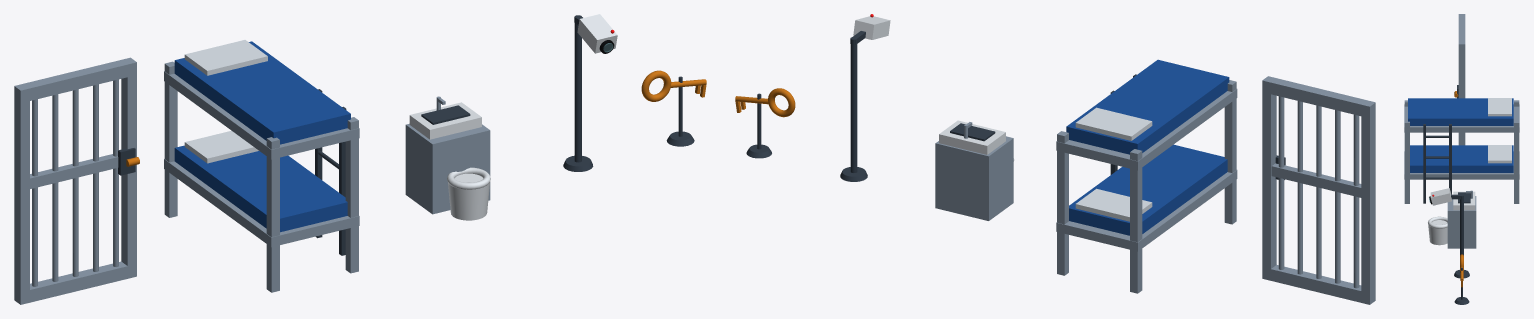
File: prison-escape-assets.obj
3 renders of one model, left to right at view 1: azimuth 30°, elevation 25°; view 2: azimuth 150°, elevation 25°; view 3: azimuth 270°, elevation 25°, orthographic. The views are drawn at different scales.
Parts seen in each view (by area): view 1: mattress_upper, mattress_lower, door_post, door_bar, bed_leg, unit_body, bed_frame_lower, bed_frame_upper, door_top, door_bottom, pillow_upper, toilet_bowl (+9 smaller); view 2: mattress_upper, mattress_lower, door_post, unit_body, door_bar, bed_leg, bed_frame_lower, bed_frame_upper, door_top, door_bottom, pillow_upper, pillow_lower (+5 smaller); view 3: mattress_upper, mattress_lower, unit_body, bed_leg, bed_frame_upper, bed_frame_lower, door_post, pillow_lower, pillow_upper, ladder_rail, toilet_bowl, cam_body (+8 smaller).
Part boxes in pixels (x1,y1,x2,y2): mattress_upper: (174,41,350,144); mattress_lower: (174,145,347,232); door_post: (14,57,136,304); door_bar: (32,79,118,286); bed_leg: (164,61,358,292); unit_body: (405,123,490,214); bed_frame_lower: (164,159,359,247); bed_frame_upper: (164,71,359,159); door_top: (14,58,136,102); door_bottom: (14,261,136,303); pillow_upper: (184,40,267,75); toilet_bowl: (448,173,490,220); mattress_upper: (1066,59,1229,154); mattress_lower: (1069,144,1227,235); door_post: (1262,76,1375,304); unit_body: (935,136,1013,220); door_bar: (1278,96,1359,288); bed_leg: (1057,80,1236,293); bed_frame_lower: (1056,170,1237,251); bed_frame_upper: (1056,89,1237,170); door_top: (1262,76,1375,117); door_bottom: (1267,265,1375,304); pillow_upper: (1075,107,1152,140); pillow_lower: (1075,188,1152,221); mattress_upper: (1408,98,1513,125); mattress_lower: (1410,145,1513,172); unit_body: (1447,196,1476,248); bed_leg: (1404,100,1519,203); bed_frame_upper: (1404,104,1519,132); bed_frame_lower: (1404,151,1519,179); door_post: (1458,14,1465,145); pillow_lower: (1488,145,1511,163); pillow_upper: (1488,98,1511,116); ladder_rail: (1423,124,1451,203); toilet_bowl: (1428,220,1447,245); cam_body: (1430,188,1451,205).
Bounding box in the file's own units: 7.39 × 2.2 × 2.
